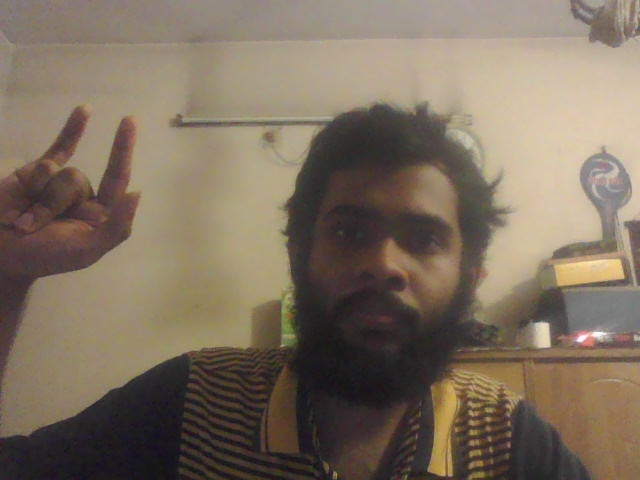I Love You: (1, 114, 142, 277)
